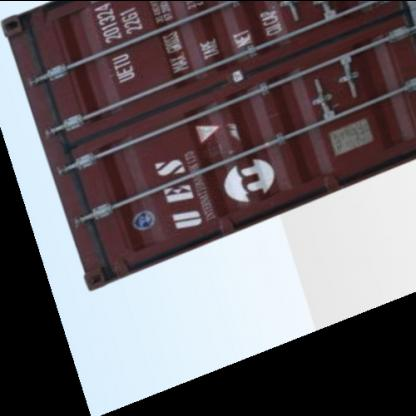Damage: (82, 214, 124, 282), (189, 126, 223, 164)
